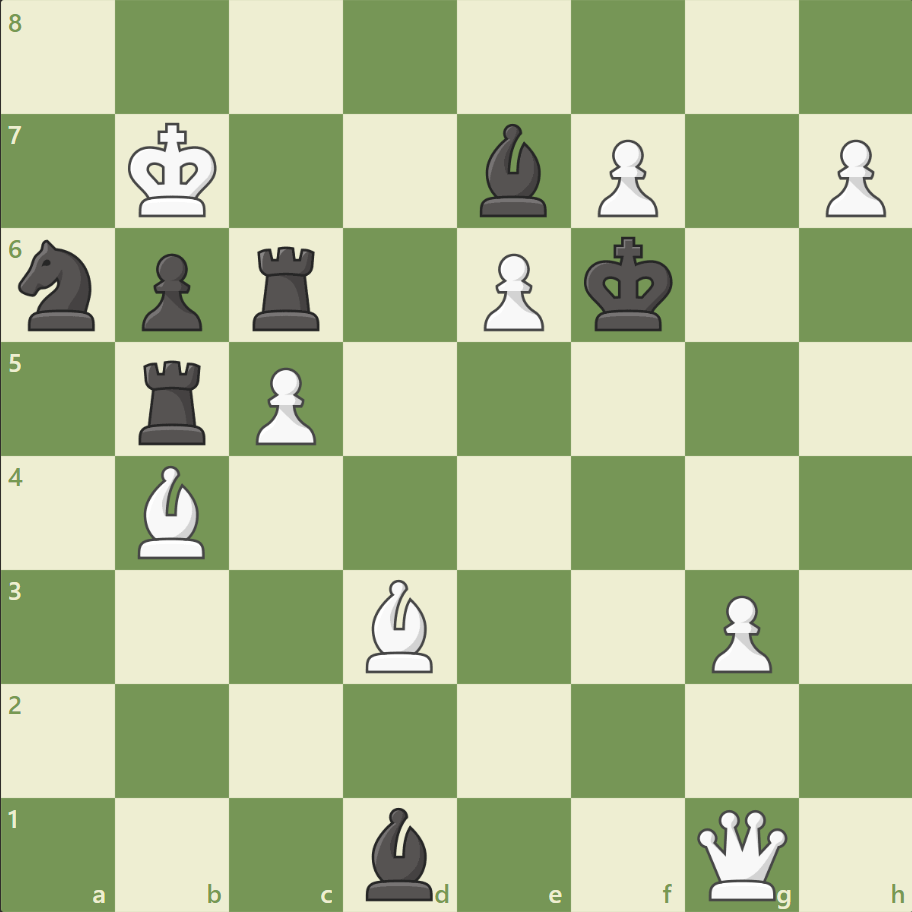B: (131, 460, 215, 563), (358, 574, 442, 676)
K: (124, 117, 224, 225)
P: (474, 246, 549, 337), (247, 359, 322, 450), (701, 586, 776, 677), (588, 132, 662, 223), (815, 132, 889, 223)
Q: (691, 804, 790, 903)
b: (358, 801, 442, 904), (471, 120, 555, 222)
k: (579, 231, 679, 339)
n: (11, 234, 108, 337)
p: (133, 246, 208, 337)
r: (246, 239, 329, 336), (133, 352, 215, 449)
